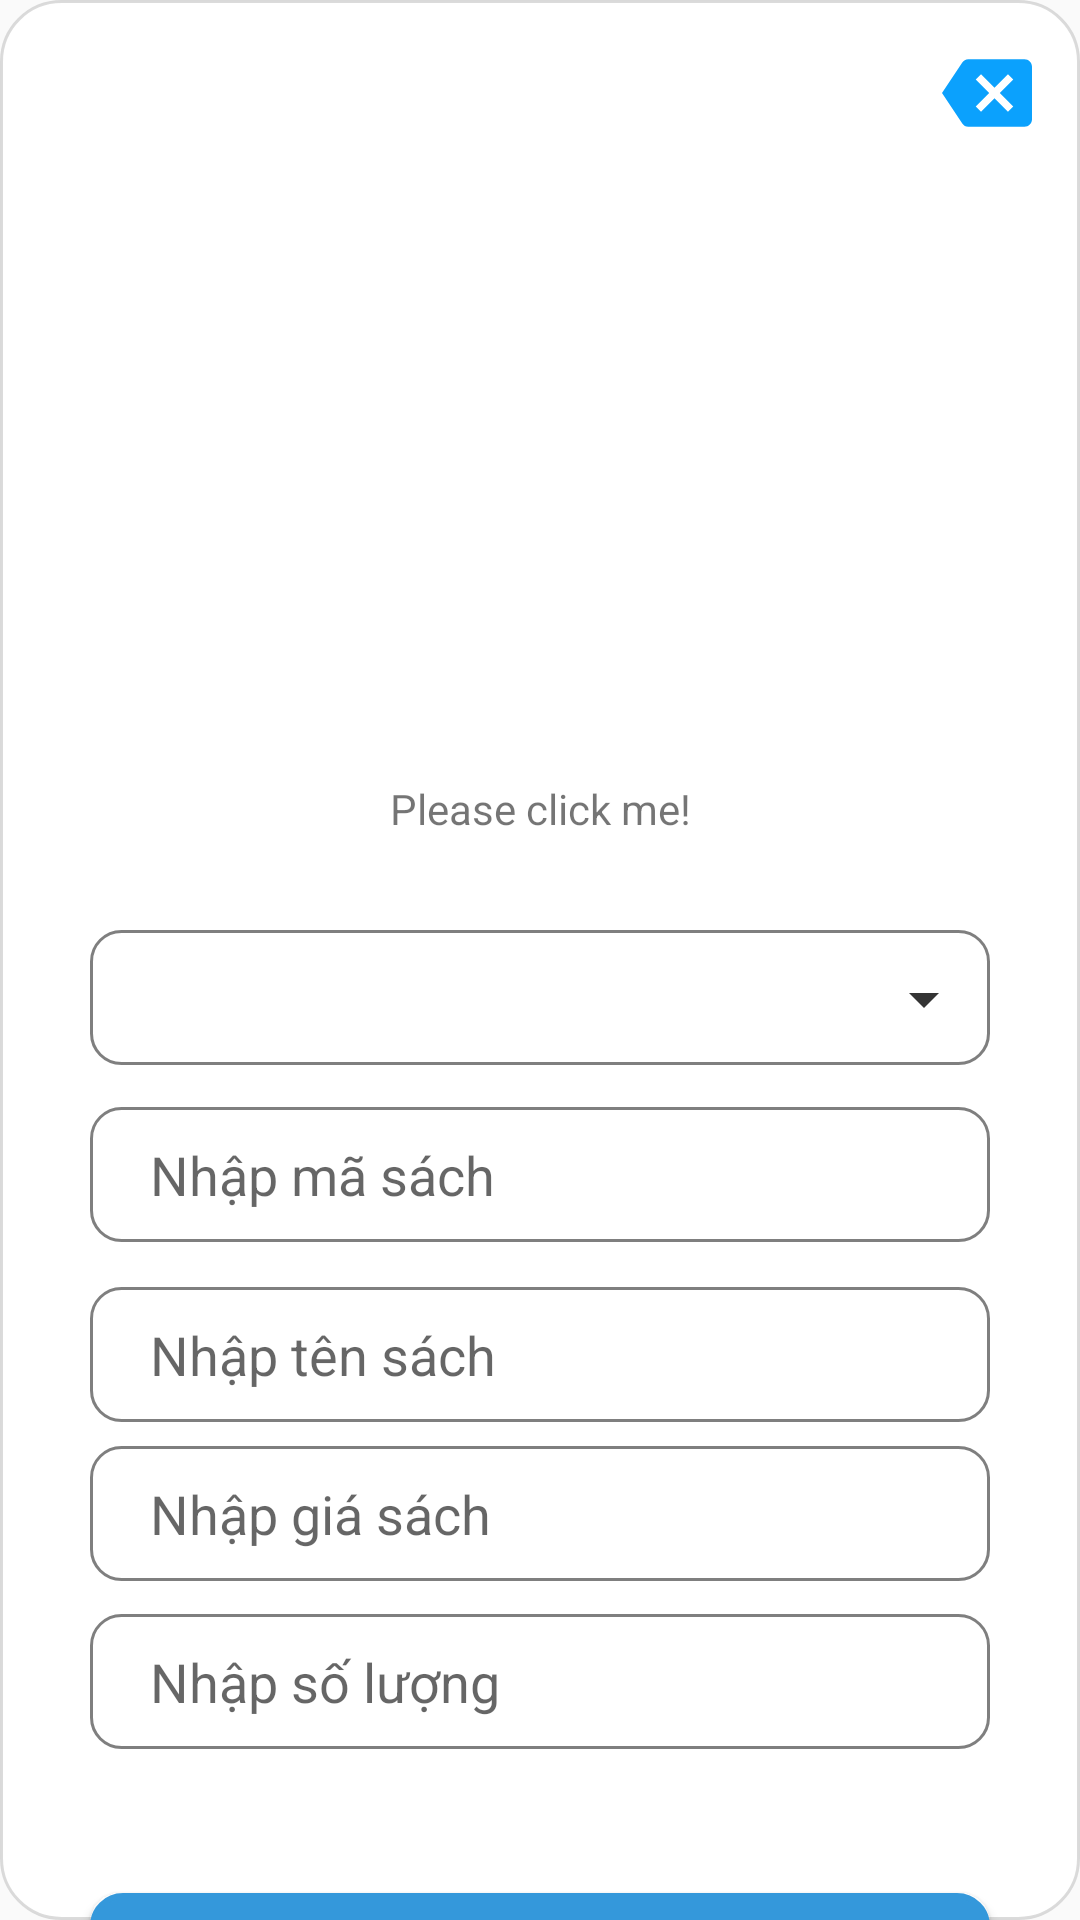

Icon click points for this 1080px×1920px phone screenshot, format (x=x, y=y):
down: (x=924, y=1000)
